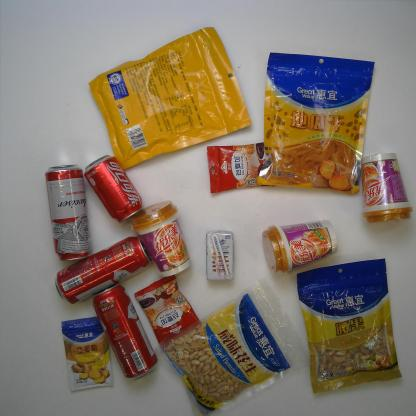Alcohol: (90, 283, 159, 382), (54, 236, 152, 305), (45, 164, 93, 262)
Dried Fruit: (90, 27, 253, 169), (164, 277, 302, 416), (258, 50, 374, 194), (296, 258, 404, 393)
Drink: (83, 156, 143, 225)
Instant Drink: (134, 274, 203, 346), (130, 201, 192, 277), (260, 218, 340, 274), (359, 153, 414, 224), (207, 142, 277, 196)
Milk: (204, 231, 235, 284)
Seasoner: (57, 316, 114, 394)
